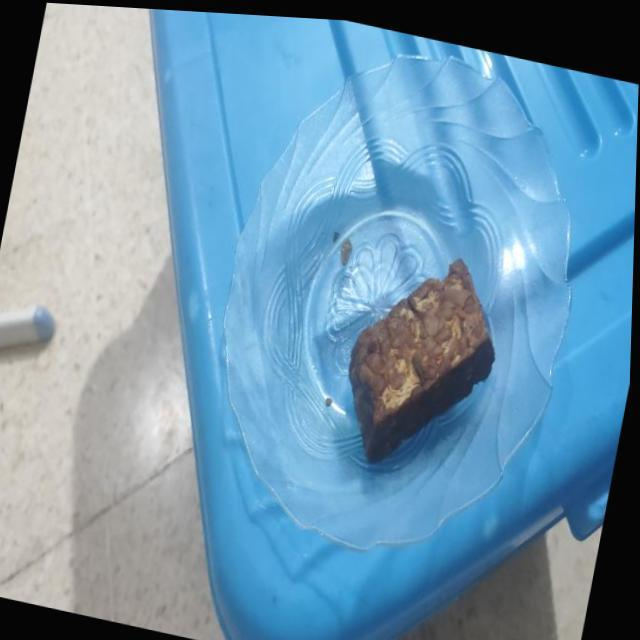tempe_goreng: (348, 259, 494, 462)
